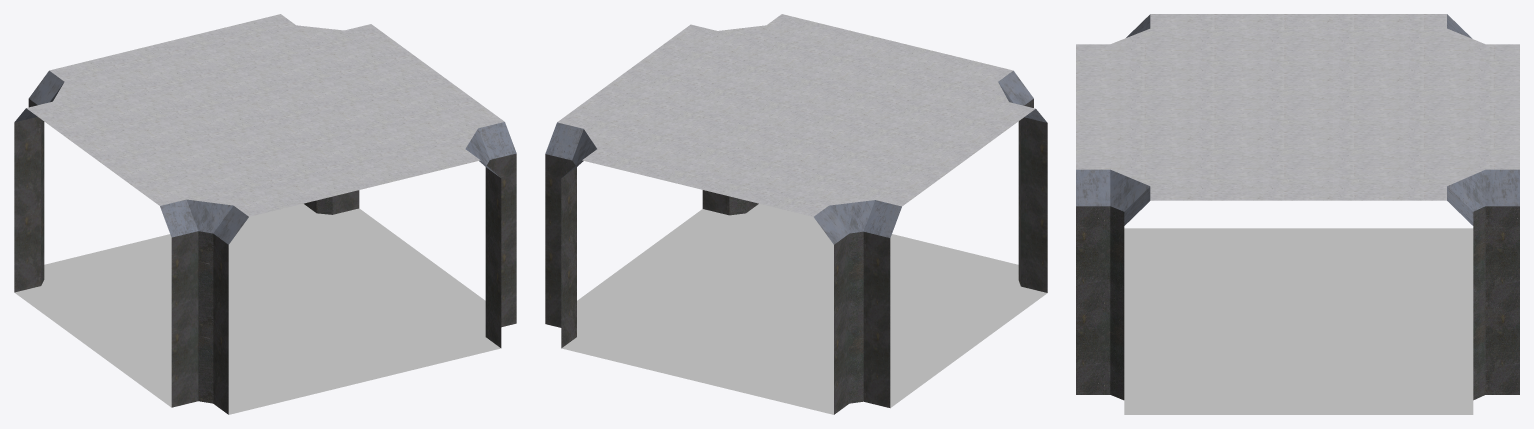
File: starship_cross.FBX
The picture shows the model from 3 angles, left to right: view 1: azimuth 30°, elevation 25°; view 2: azimuth 150°, elevation 25°; view 3: azimuth 270°, elevation 25°; orthographic projection. The views are drawn at different scales.
Visible parts, largest first — view 1: Cross; view 2: Cross; view 3: Cross.
Boxes of the visible parts, box(x1,y1,x2,y2) form: Cross: box(14, 14, 516, 414); Cross: box(545, 14, 1047, 414); Cross: box(1076, 14, 1519, 414).
Bounding box in the file's own units: 3.08 × 1.65 × 3.09.
